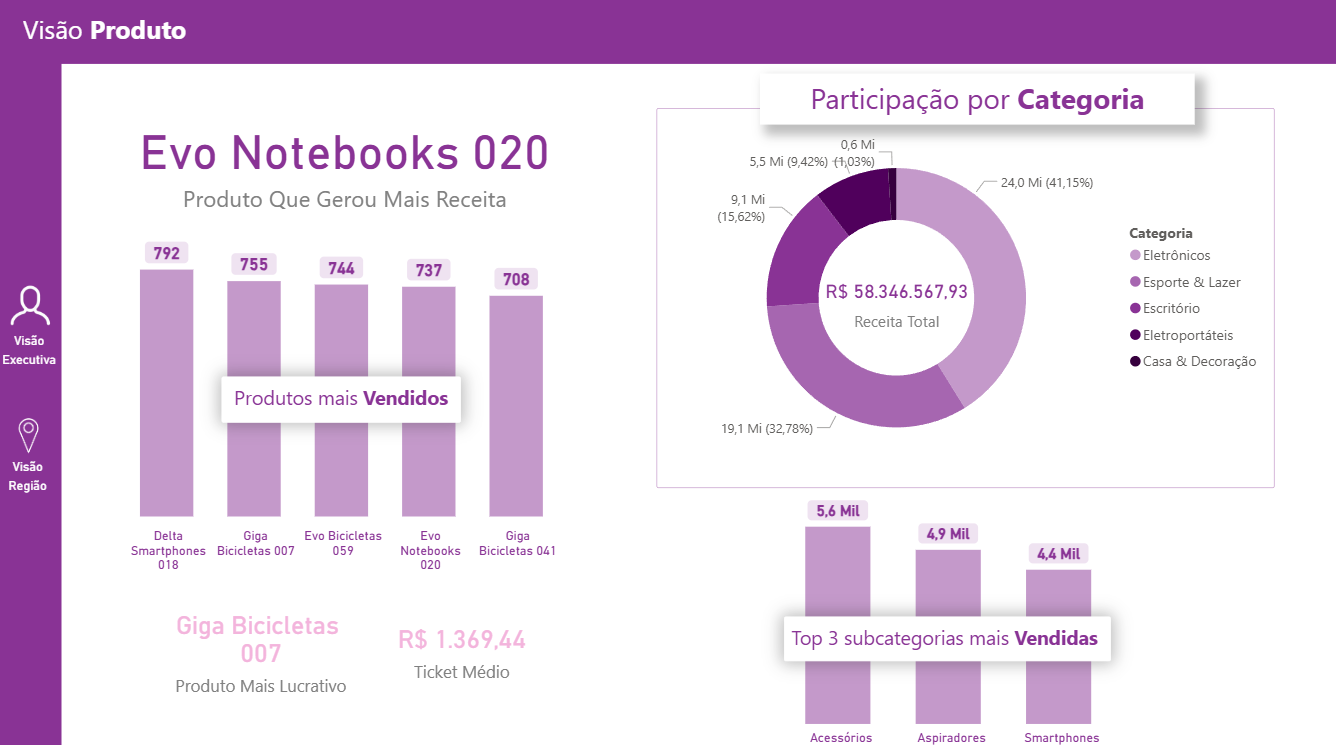

The page's visual inventory and layout, read from the dashboard file:
{"tool":"powerbi","page":{"name":"Visão Produto","canvas":[1280,720],"ordinal":1},"visuals":[{"type":"shape","box":[0,0,1280,63.7],"z":0,"group":"g1"},{"type":"shape","box":[0,56.7,63.3,663.3],"z":0},{"type":"group","id":"g1","title":"Grupo 1","box":[0,0,1280,63.7],"z":1000},{"type":"textbox","box":[21.4,8.3,196.7,48.5],"z":1000,"group":"g1"},{"type":"textbox","box":[0.7,311.5,62.1,57.1],"z":1000,"group":"g5"},{"type":"textbox","box":[0,430.9,62.1,57.1],"z":1000,"group":"g6"},{"type":"image","box":[0,368.3,63.3,101.7],"z":1500,"group":"g6"},{"type":"card","fields":{"Values":["Labels.Produto Mais Vendido"]},"box":[125.7,91.4,414.3,130],"z":2000},{"type":"group","id":"g2","title":"Grupo 2","box":[81.4,221.4,481.4,334.3],"z":3000},{"type":"clusteredColumnChart","fields":{"Category":["Dim_Produto.Produto"],"Y":["Medidas.qtdTotal"]},"box":[81.4,221.4,481.6,334],"z":3000,"group":"g2"},{"type":"clusteredColumnChart","fields":{"Y":["Medidas.qtdTotal"],"Category":["Dim_Produto.Subcategoria"]},"box":[724.3,467.1,372.7,252.9],"z":3000,"group":"g3"},{"type":"textbox","box":[215.7,360.8,228.1,44.1],"z":4000,"group":"g2"},{"type":"card","fields":{"Values":["Labels.Produto Mais Lucrativo"]},"box":[157.1,555.7,191.4,130],"z":4000},{"type":"textbox","box":[751,589.8,311.4,42.9],"z":4000,"group":"g3"},{"type":"donutChart","fields":{"Category":["Dim_Produto.Categoria"],"Y":["Sum(Fato_Vendas.Receita)"]},"box":[630,105.1,588.6,362.1],"z":5000,"group":"g4"},{"type":"group","id":"g3","title":"Grupo 2","box":[724.3,467.1,372.7,252.9],"z":5000},{"type":"group","id":"g4","title":"Grupo 3","box":[630,72.7,588.6,394.5],"z":6000},{"type":"card","fields":{"Values":["Labels.Receita Total"]},"box":[784.3,254.6,148.6,71.4],"z":6000,"group":"g4"},{"type":"textbox","box":[728.6,72.7,414.3,48.6],"z":6500,"group":"g4"},{"type":"card","fields":{"Values":["Labels.Ticket Médio"]},"box":[348.6,555.7,191.4,130],"z":7000},{"type":"image","box":[4.3,260.5,58.6,65.7],"z":7003,"group":"g5"},{"type":"group","id":"g5","title":"Grupo 3","box":[0,258.3,62.9,110.3],"z":8000},{"type":"group","id":"g6","title":"Grupo 3","box":[0,368.3,63.3,119.8],"z":9000}]}

Visuals, with their boxes in screenshot pixels (x1, y1, x2, y2), scaled from the page's 1280x720 canvas onto the 1336x745 screenshot:
shape: x1=0 y1=0 x2=1335 y2=66
shape: x1=0 y1=59 x2=66 y2=744
"Grupo 1" group: x1=0 y1=0 x2=1335 y2=66
textbox: x1=22 y1=9 x2=228 y2=59
textbox: x1=1 y1=322 x2=66 y2=381
textbox: x1=0 y1=446 x2=65 y2=505
image: x1=0 y1=381 x2=66 y2=486
card - Labels.Produto Mais Vendido: x1=131 y1=95 x2=564 y2=229
"Grupo 2" group: x1=85 y1=229 x2=587 y2=575
clusteredColumnChart - Dim_Produto.Produto x Medidas.qtdTotal: x1=85 y1=229 x2=588 y2=575
clusteredColumnChart - Medidas.qtdTotal x Dim_Produto.Subcategoria: x1=756 y1=483 x2=1145 y2=744
textbox: x1=225 y1=373 x2=463 y2=419
card - Labels.Produto Mais Lucrativo: x1=164 y1=575 x2=364 y2=710
textbox: x1=784 y1=610 x2=1109 y2=655
donutChart - Dim_Produto.Categoria x Sum(Fato_Vendas.Receita): x1=658 y1=109 x2=1272 y2=483
"Grupo 2" group: x1=756 y1=483 x2=1145 y2=744
"Grupo 3" group: x1=658 y1=75 x2=1272 y2=483
card - Labels.Receita Total: x1=819 y1=263 x2=974 y2=337
textbox: x1=760 y1=75 x2=1193 y2=126
card - Labels.Ticket Médio: x1=364 y1=575 x2=564 y2=710
image: x1=4 y1=270 x2=66 y2=338
"Grupo 3" group: x1=0 y1=267 x2=66 y2=381
"Grupo 3" group: x1=0 y1=381 x2=66 y2=505
